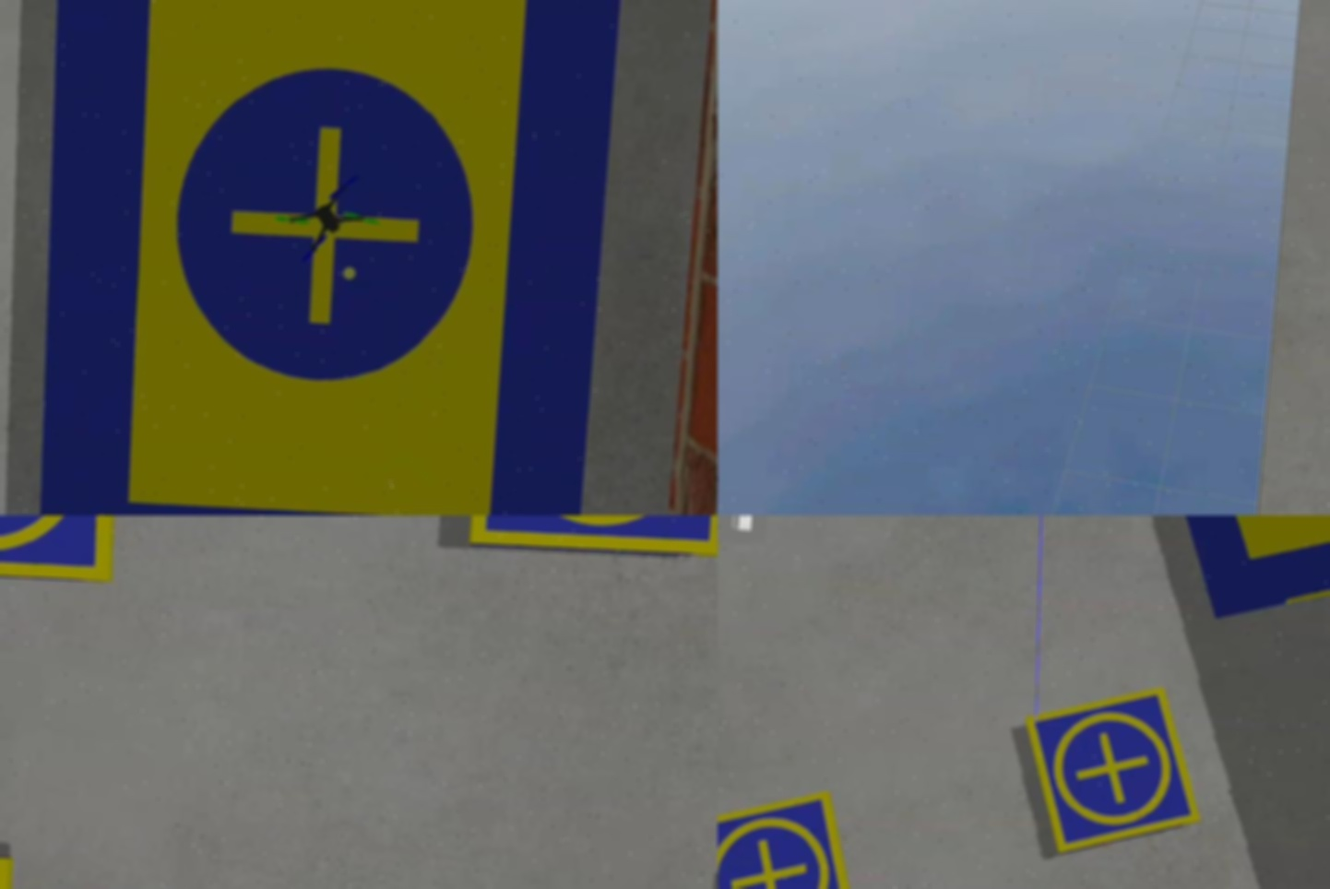large_base: (10, 1, 635, 516), (1164, 516, 1330, 634)
small_base: (1018, 681, 1208, 861), (718, 783, 865, 889), (465, 516, 718, 560)
